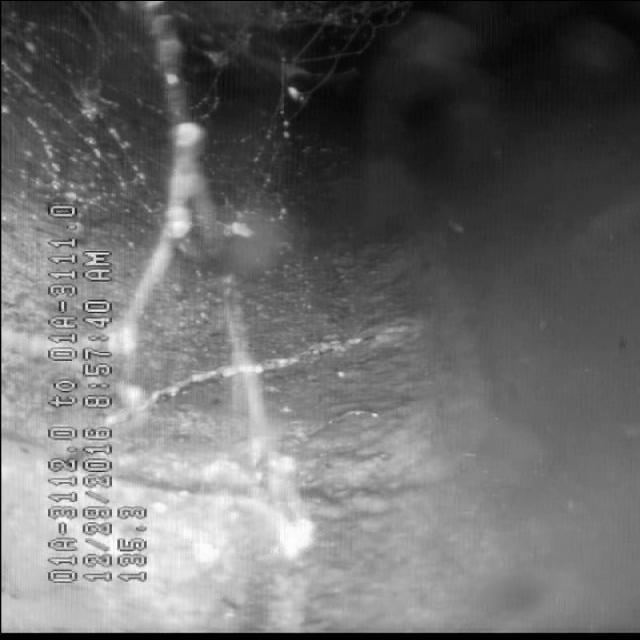Crack: (140, 322, 376, 414)
